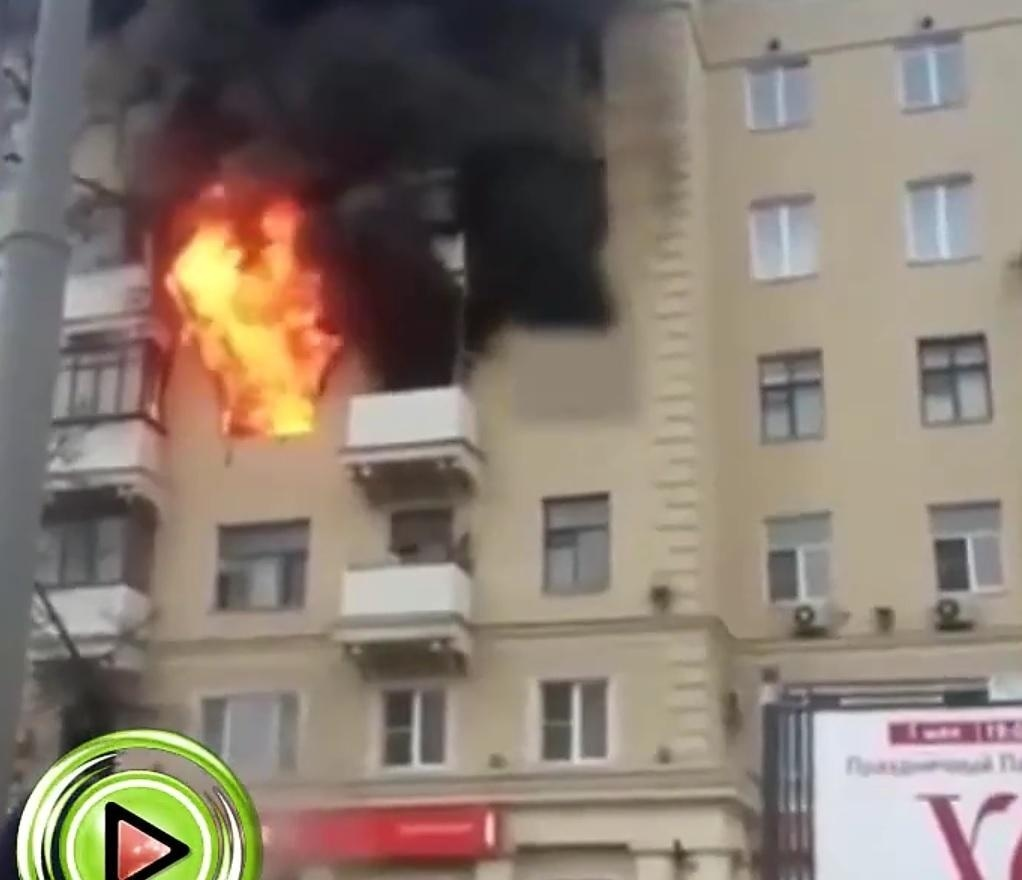fire: (158, 188, 339, 439)
